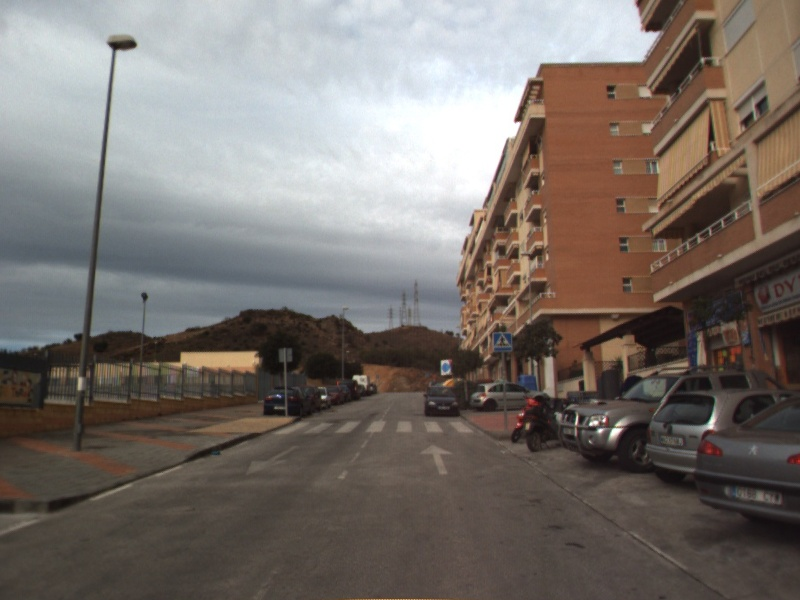STRAIGHT: (417, 442, 455, 476)
